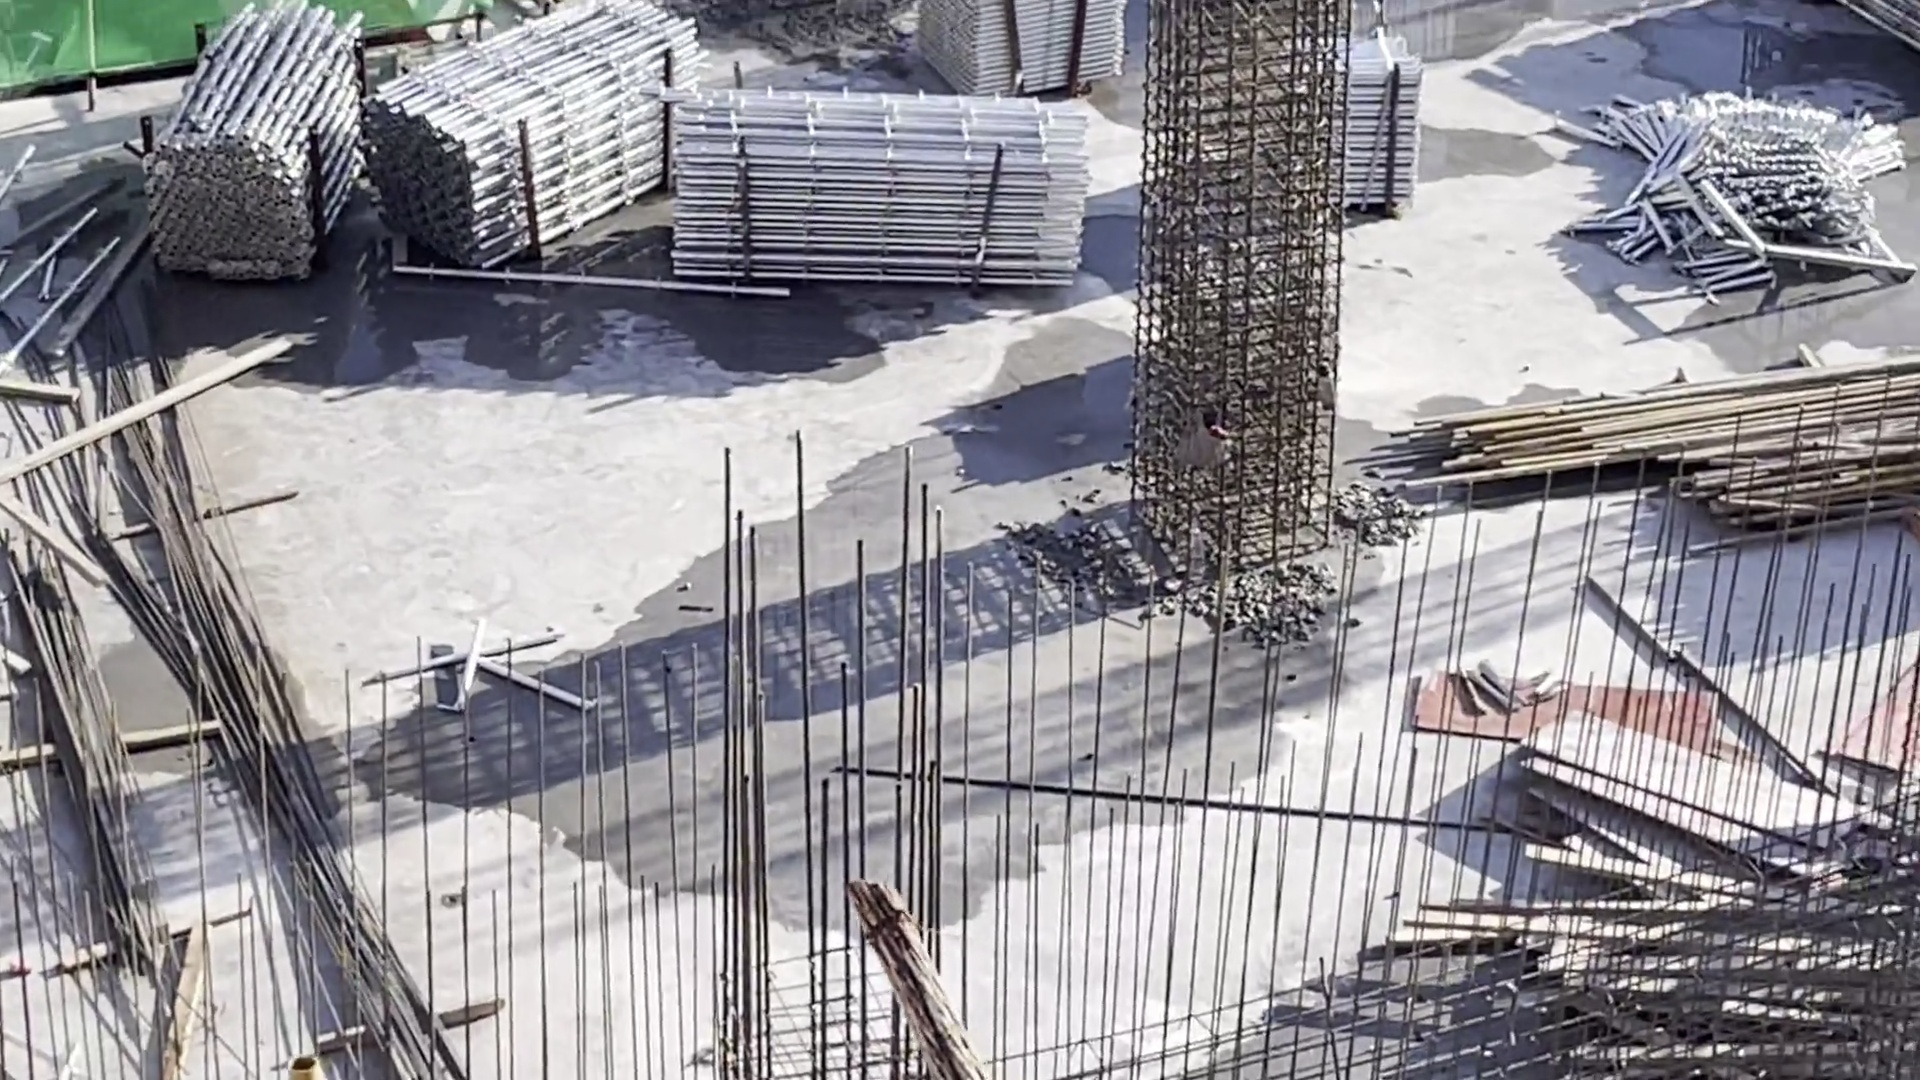board: (1549, 737, 1845, 890)
rebar: (96, 404, 481, 1080), (1, 537, 189, 960)
scaffold: (659, 103, 1091, 268), (401, 18, 676, 245), (1640, 86, 1895, 290), (153, 15, 375, 243), (1305, 47, 1414, 220), (948, 1, 1120, 84)
wood: (1468, 894, 1896, 1069)
